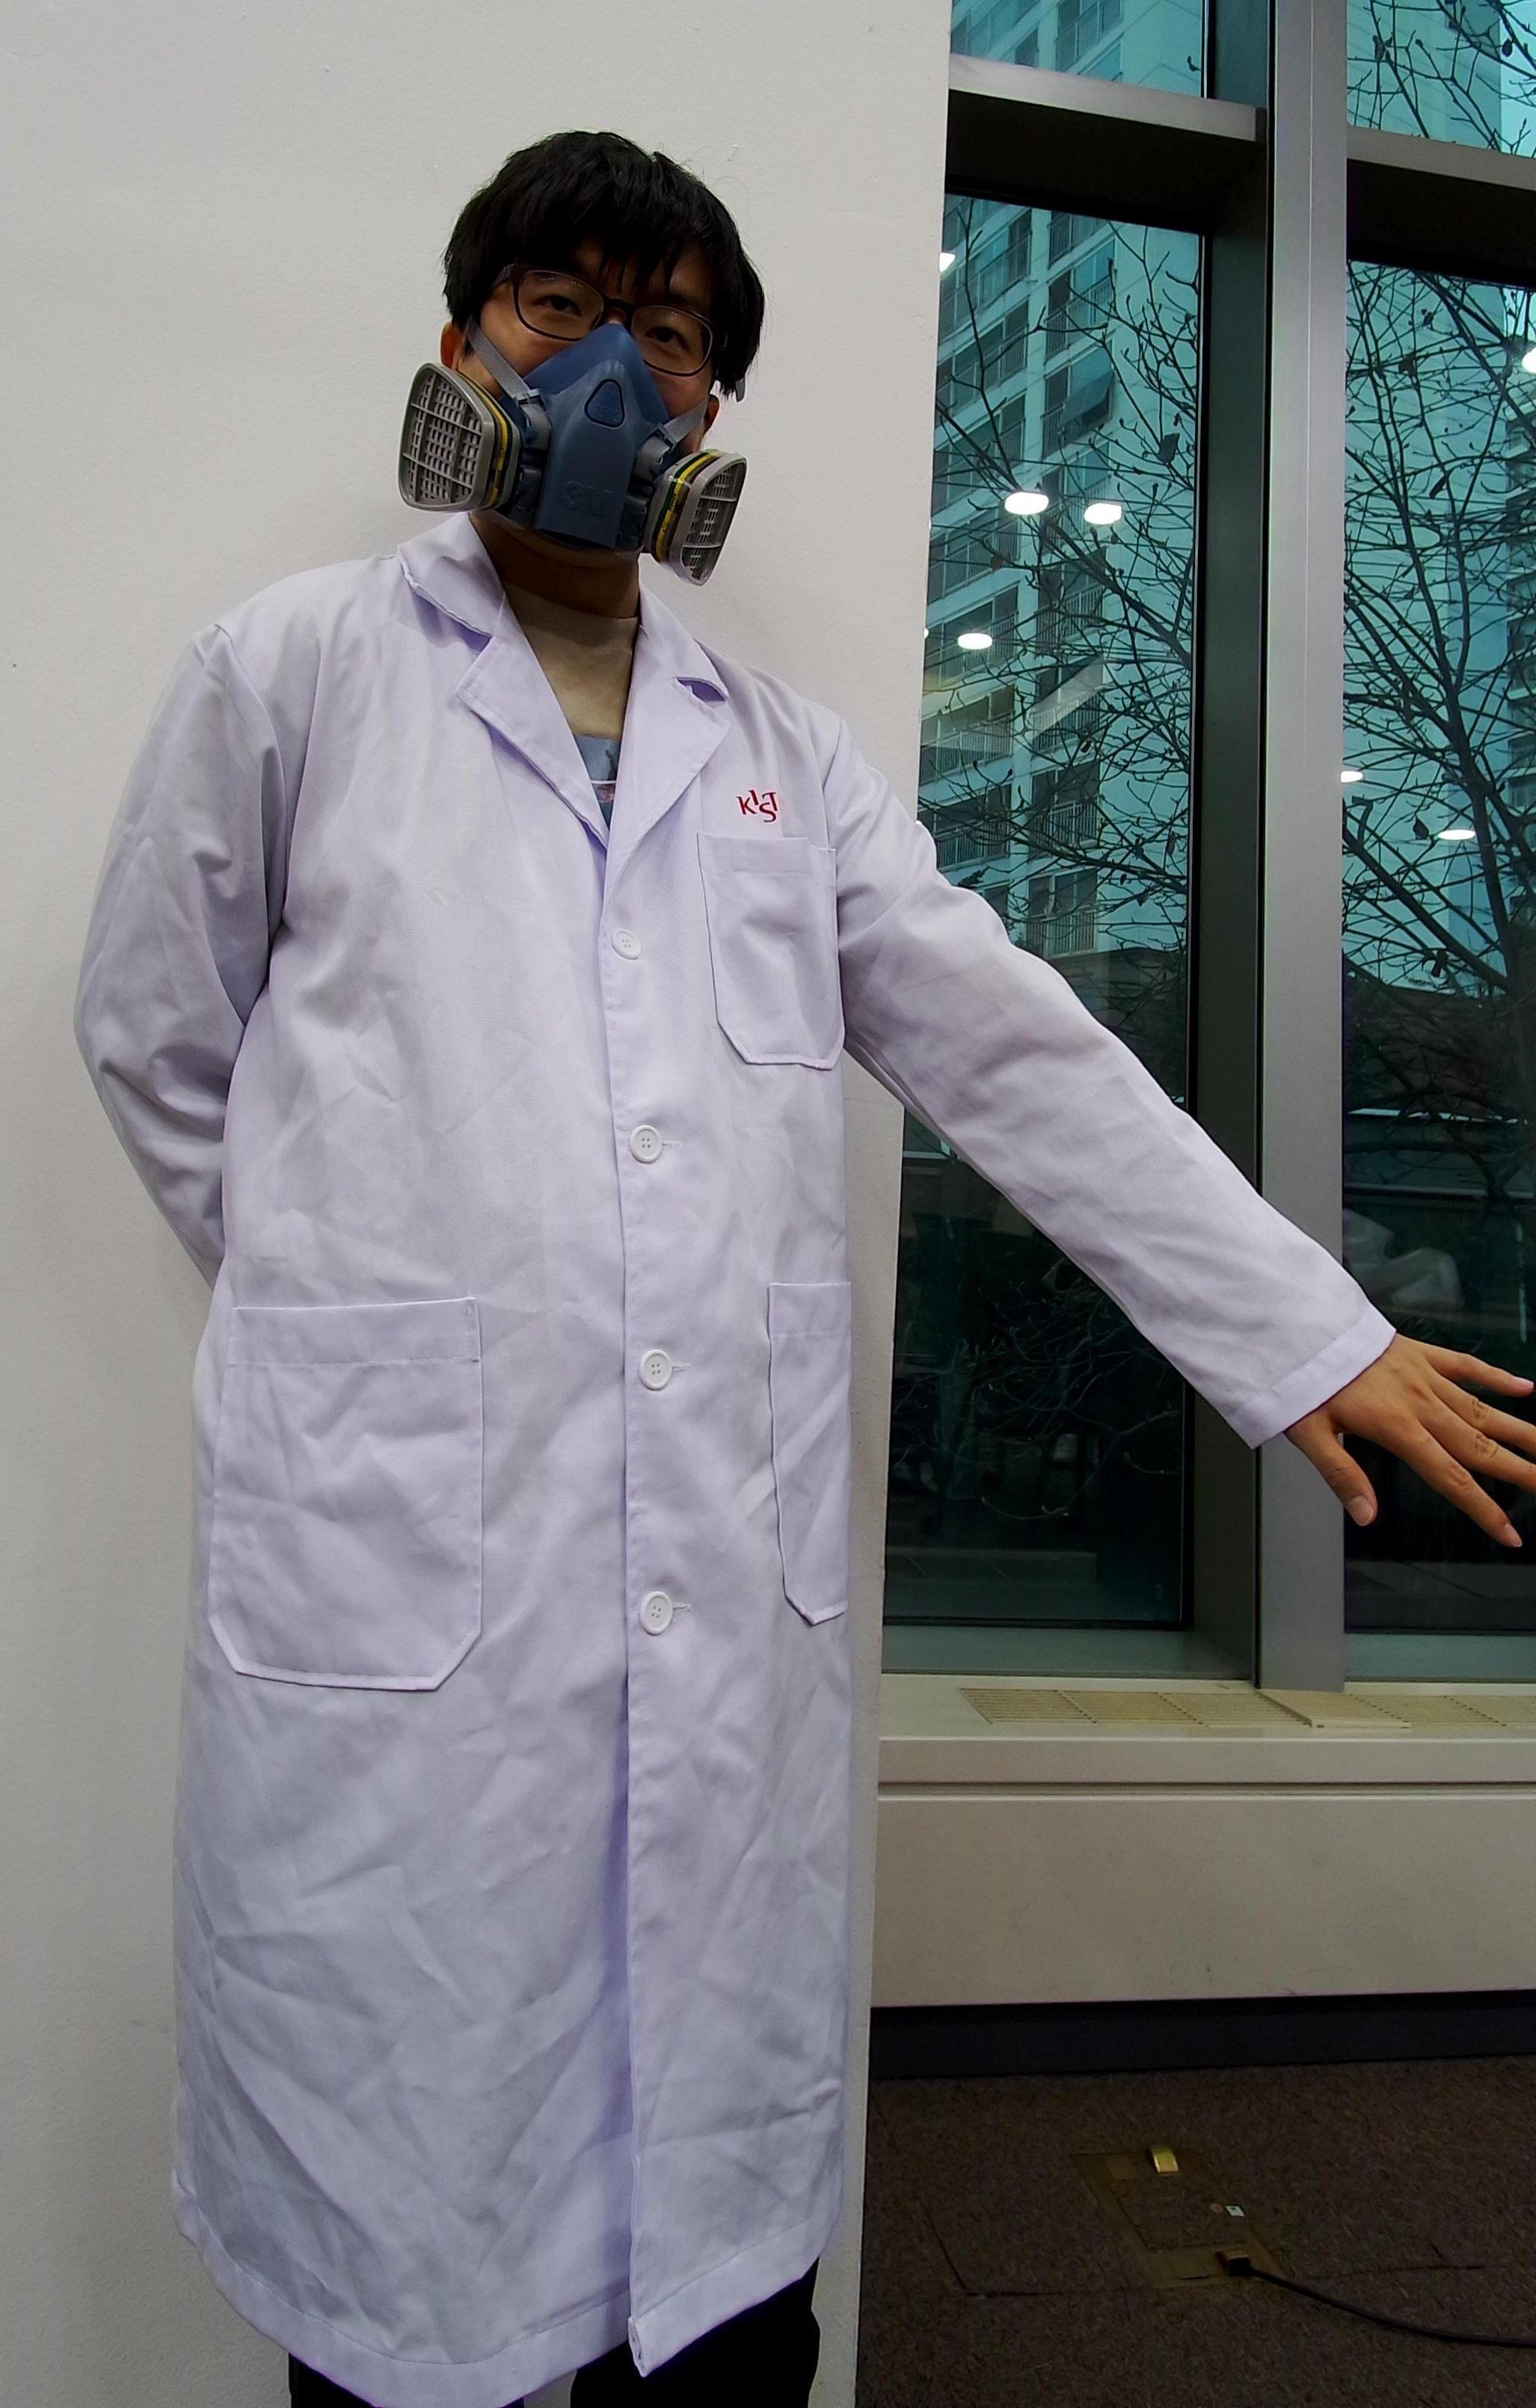lab_coat: (35, 606, 1273, 2306)
